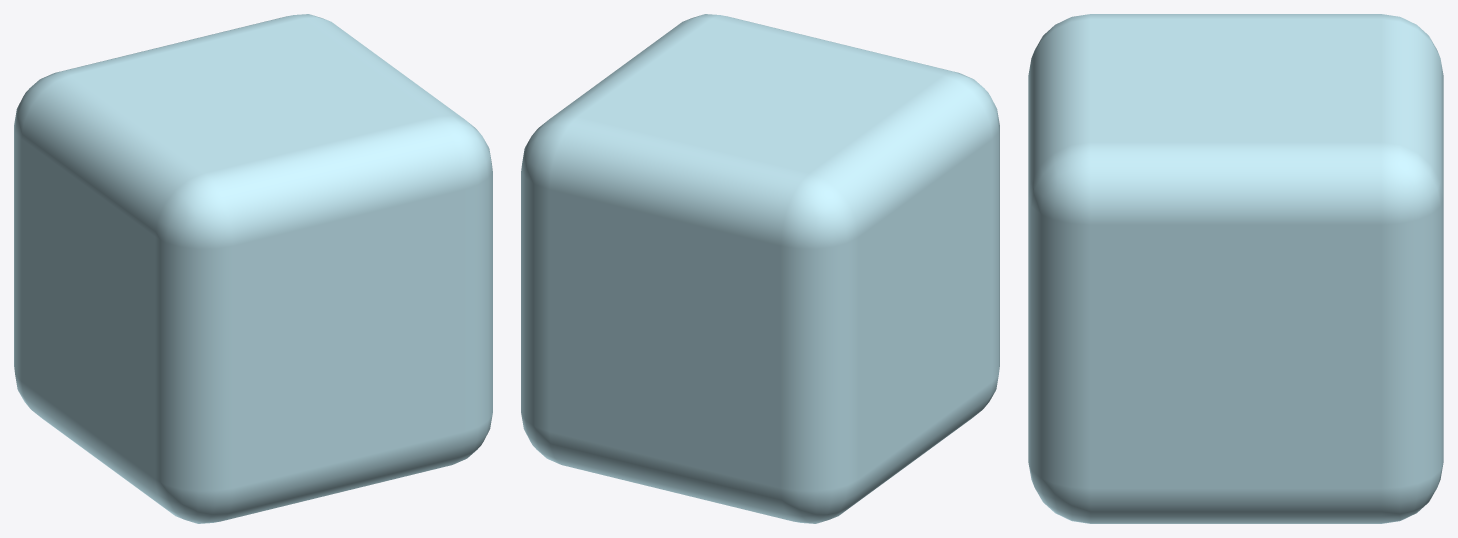
The model's file is blue_cube.fbx.
3 views of the same model, side by side, from view 1: azimuth 30°, elevation 25°; view 2: azimuth 150°, elevation 25°; view 3: azimuth 270°, elevation 25° (orthographic). The views are drawn at different scales.
Parts seen in each view (by area): view 1: 큐브; view 2: 큐브; view 3: 큐브.
Boxes of the visible parts, x1=… form: 큐브: x1=14, y1=14, x2=492, y2=523; 큐브: x1=521, y1=14, x2=999, y2=523; 큐브: x1=1028, y1=14, x2=1443, y2=523.
Bounding box in the file's own units: 200 × 200 × 200.
